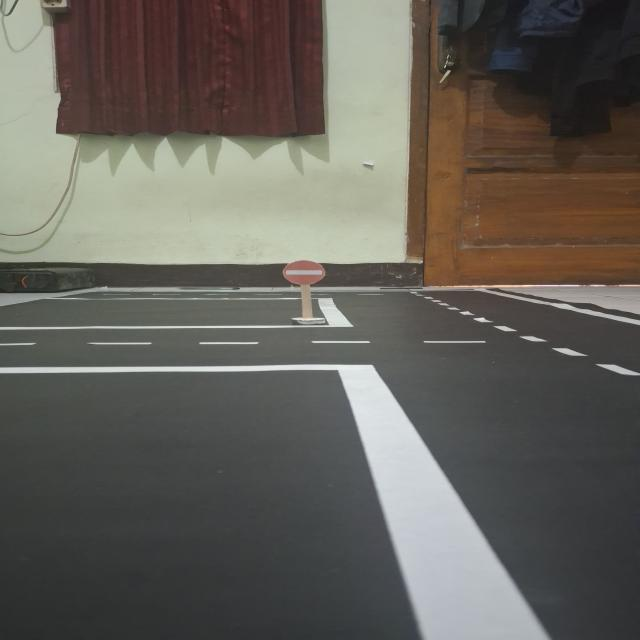Dilarang Masuk: (282, 260, 326, 285)
